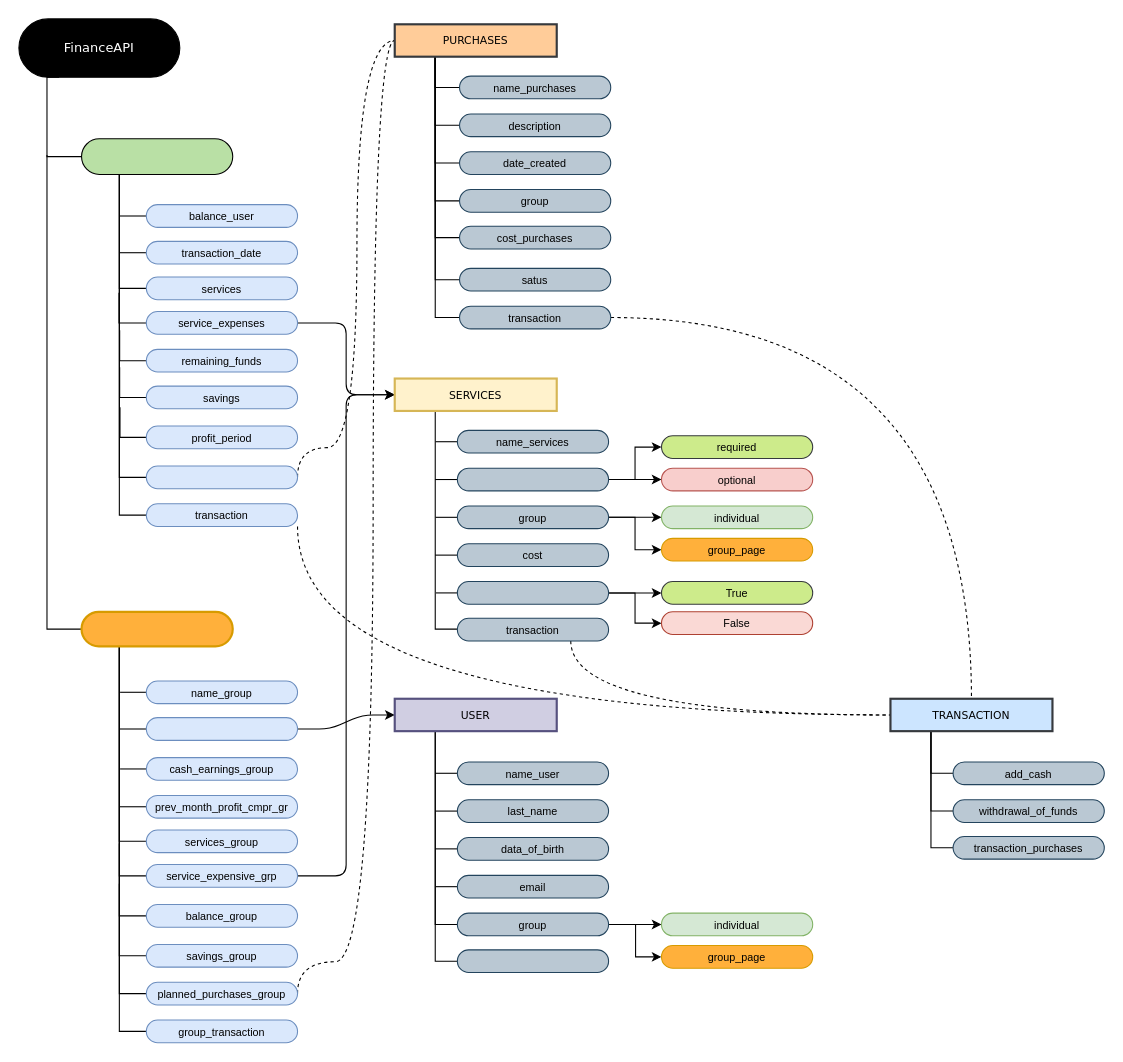
The diagram is 1123 pixels wide and 1062 high, and some of its shapes have lost their labels. The shapes that lost their labels are listed below. From the top down, each one's centre as x and y in pixels, then its label:
point 156,156: Induvidual Page
point 221,477: planned_purchases
point 532,479: priority
point 532,592: monthly_expense
point 156,628: Group Page
point 221,728: list_users
point 532,961: balance
